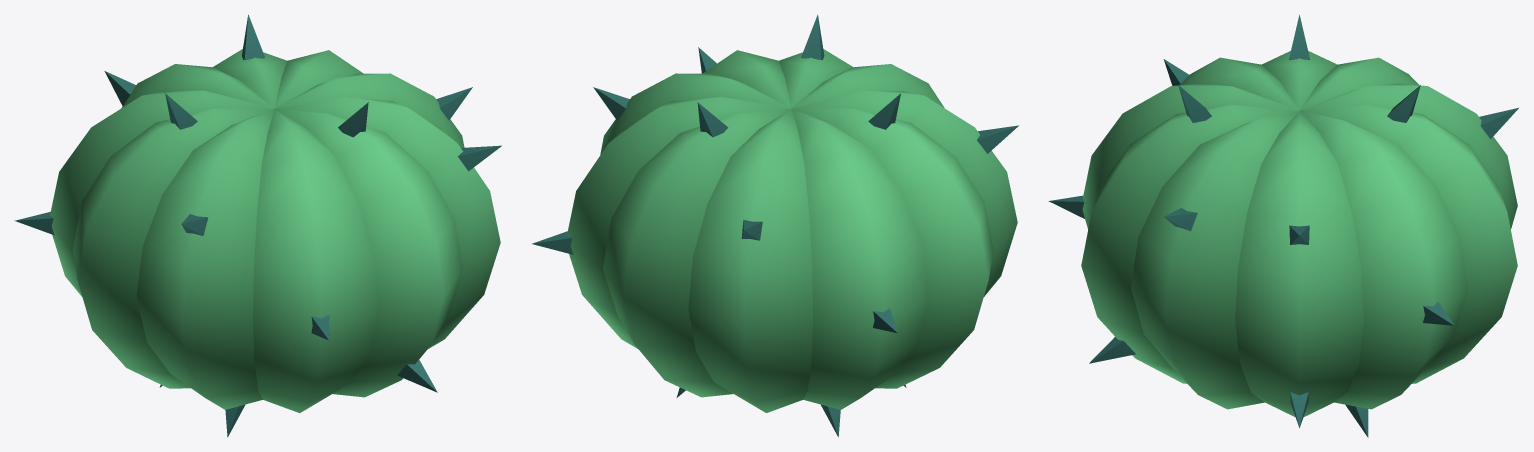
The model's file is S_Cactus1.fbx.
3 renders of one model, left to right at view 1: azimuth 30°, elevation 25°; view 2: azimuth 150°, elevation 25°; view 3: azimuth 270°, elevation 25°, orthographic.
Parts seen in each view (by area): view 1: Cactus; view 2: Cactus; view 3: Cactus.
Boxes of the visible parts, x1,y1,x2,y2 form: Cactus: (14, 14, 501, 437); Cactus: (532, 14, 1018, 437); Cactus: (1048, 14, 1518, 437).
Bounding box in the file's own units: 200 × 158 × 205.
